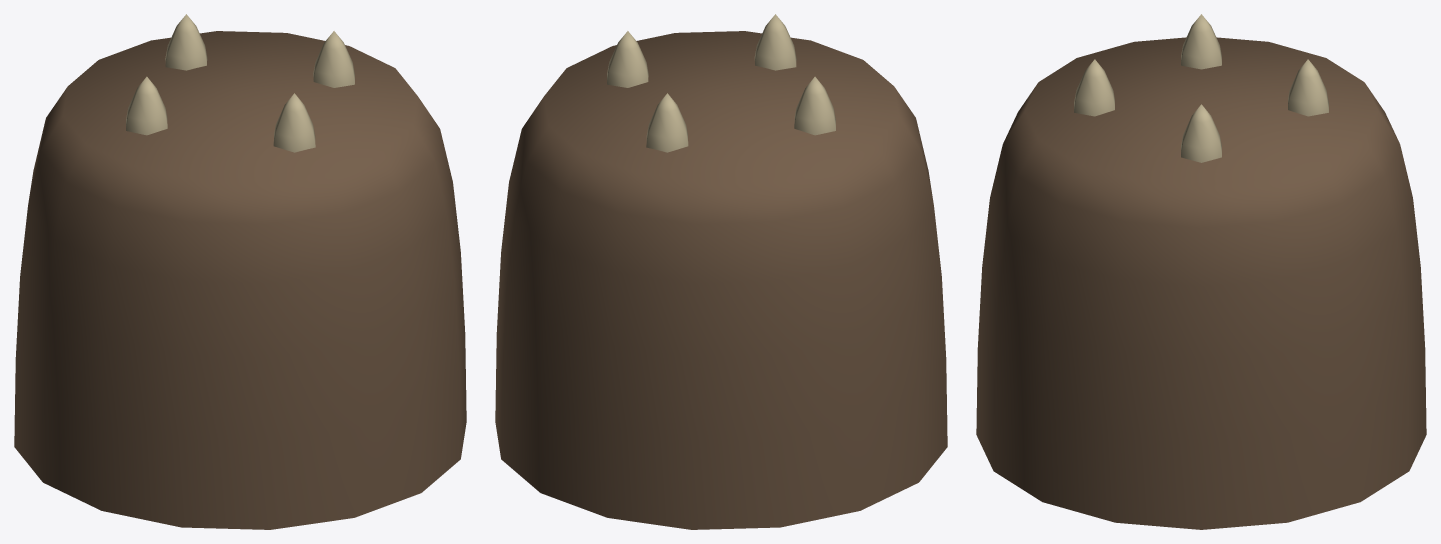
Rendered from moth_cloak.obj.
The picture shows the model from 3 angles, left to right: view 1: azimuth 30°, elevation 25°; view 2: azimuth 150°, elevation 25°; view 3: azimuth 270°, elevation 25°; orthographic projection.
Visible parts, largest first — view 1: moth_cloak; view 2: moth_cloak; view 3: moth_cloak.
Boxes of the visible parts, <box> form: moth_cloak: <box>14,14,466,529</box>; moth_cloak: <box>495,14,947,529</box>; moth_cloak: <box>976,14,1426,529</box>.
Bounding box in the file's own units: 1.52 × 1.4 × 1.52.
